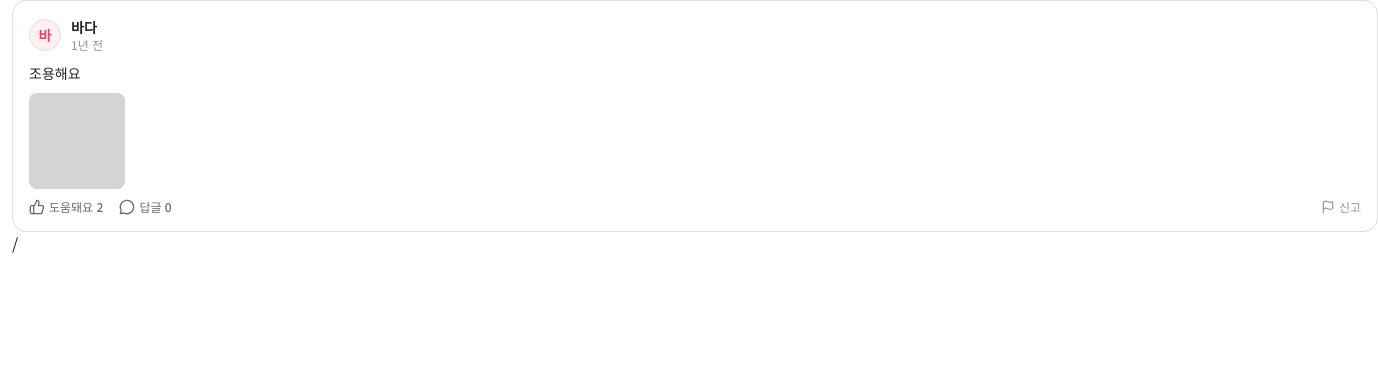
Test: TipCard › 답글: 펼치면 불러오고, 쓰면 목록과 수가 늘고, 내 답글은 지운다
The width and height of the screenshot is (1378, 379).
Click the button "답글 0" at (146,207), box x1=119 y1=199 x2=172 y2=215
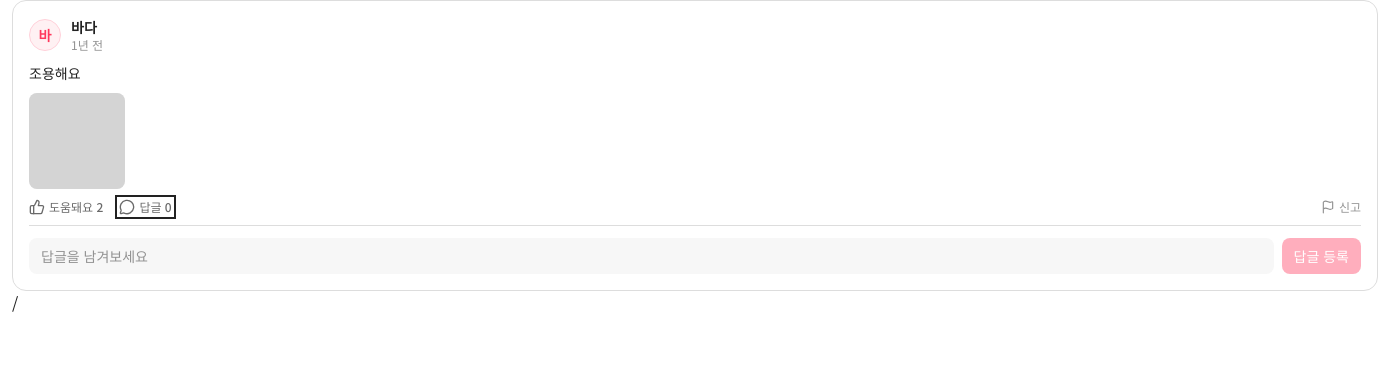
Type "고마워요" into the field labelled "답글" at (651,256), box x1=29 y1=238 x2=1274 y2=274
Then press Enter
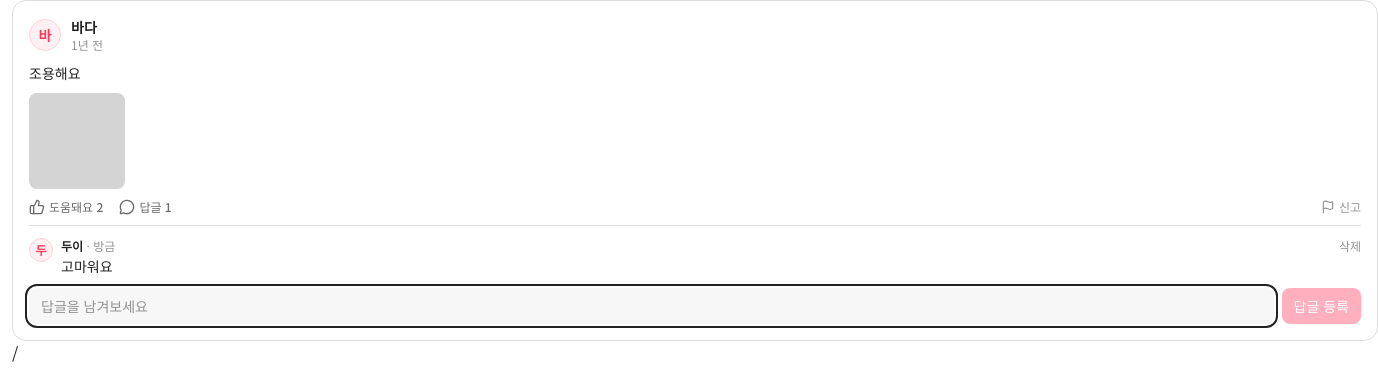
Expected: the text "고마워요" is shown, x1=61 y1=256 x2=112 y2=276
Expected: the button "답글 1" is shown, x1=119 y1=199 x2=172 y2=215
Click the button "삭제" at (1350,246), box x1=1339 y1=238 x2=1361 y2=254
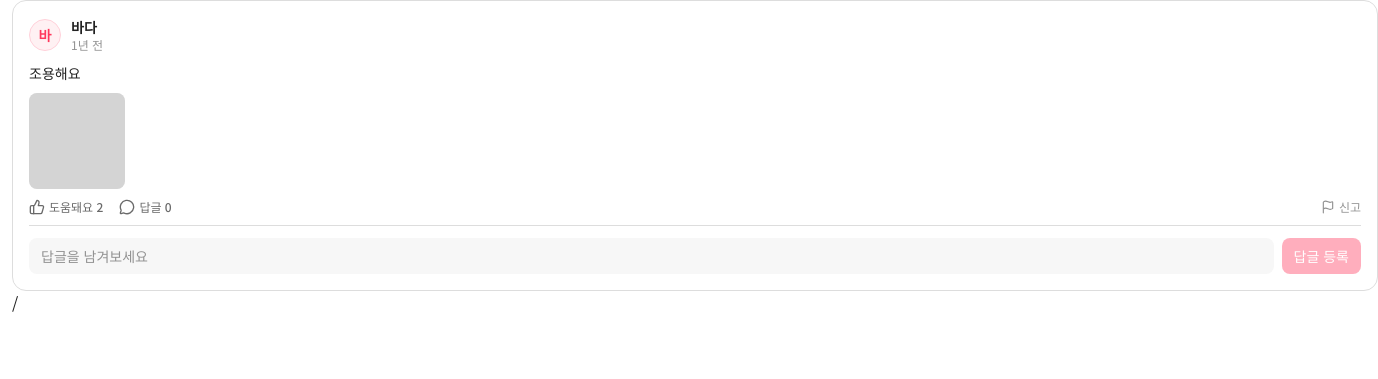
Expected: the text "고마워요" is gone
Expected: the button "답글 0" is shown, x1=119 y1=199 x2=172 y2=215
